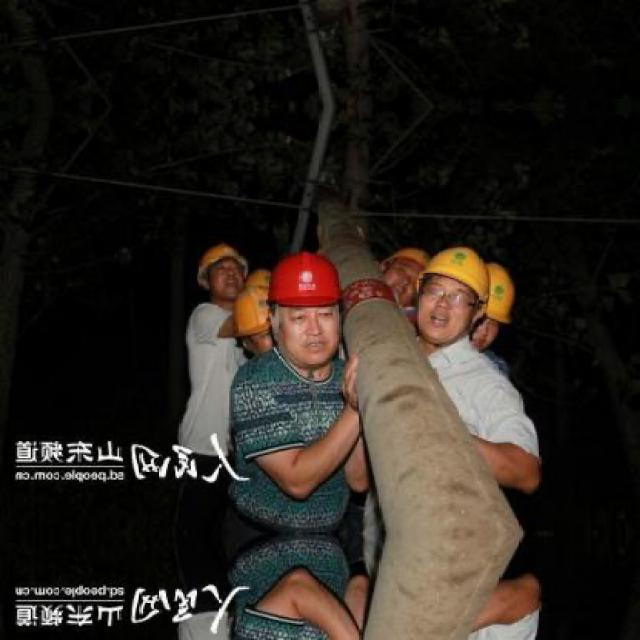helmet: (264, 250, 344, 355), (412, 242, 488, 349), (470, 262, 516, 350), (228, 286, 275, 360), (197, 241, 249, 302), (381, 248, 434, 301)
